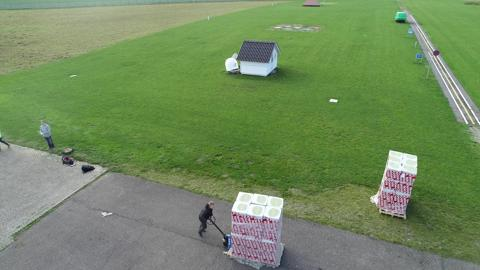RockwoolPallet: (233, 192, 285, 266)
